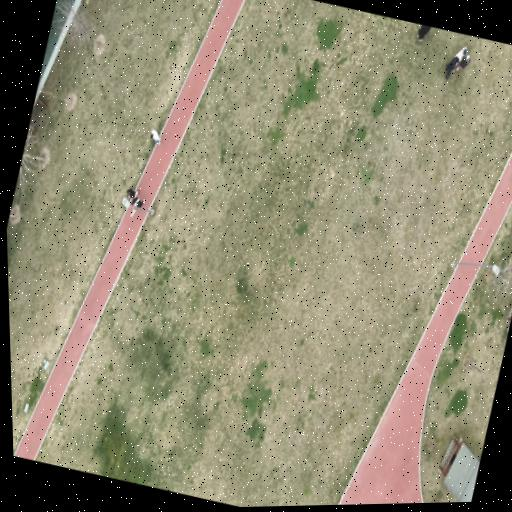person: (446, 47, 467, 79), (455, 56, 471, 72), (130, 200, 144, 216), (124, 186, 138, 199), (418, 26, 430, 41), (151, 130, 160, 145), (130, 197, 139, 205), (136, 200, 144, 208)
